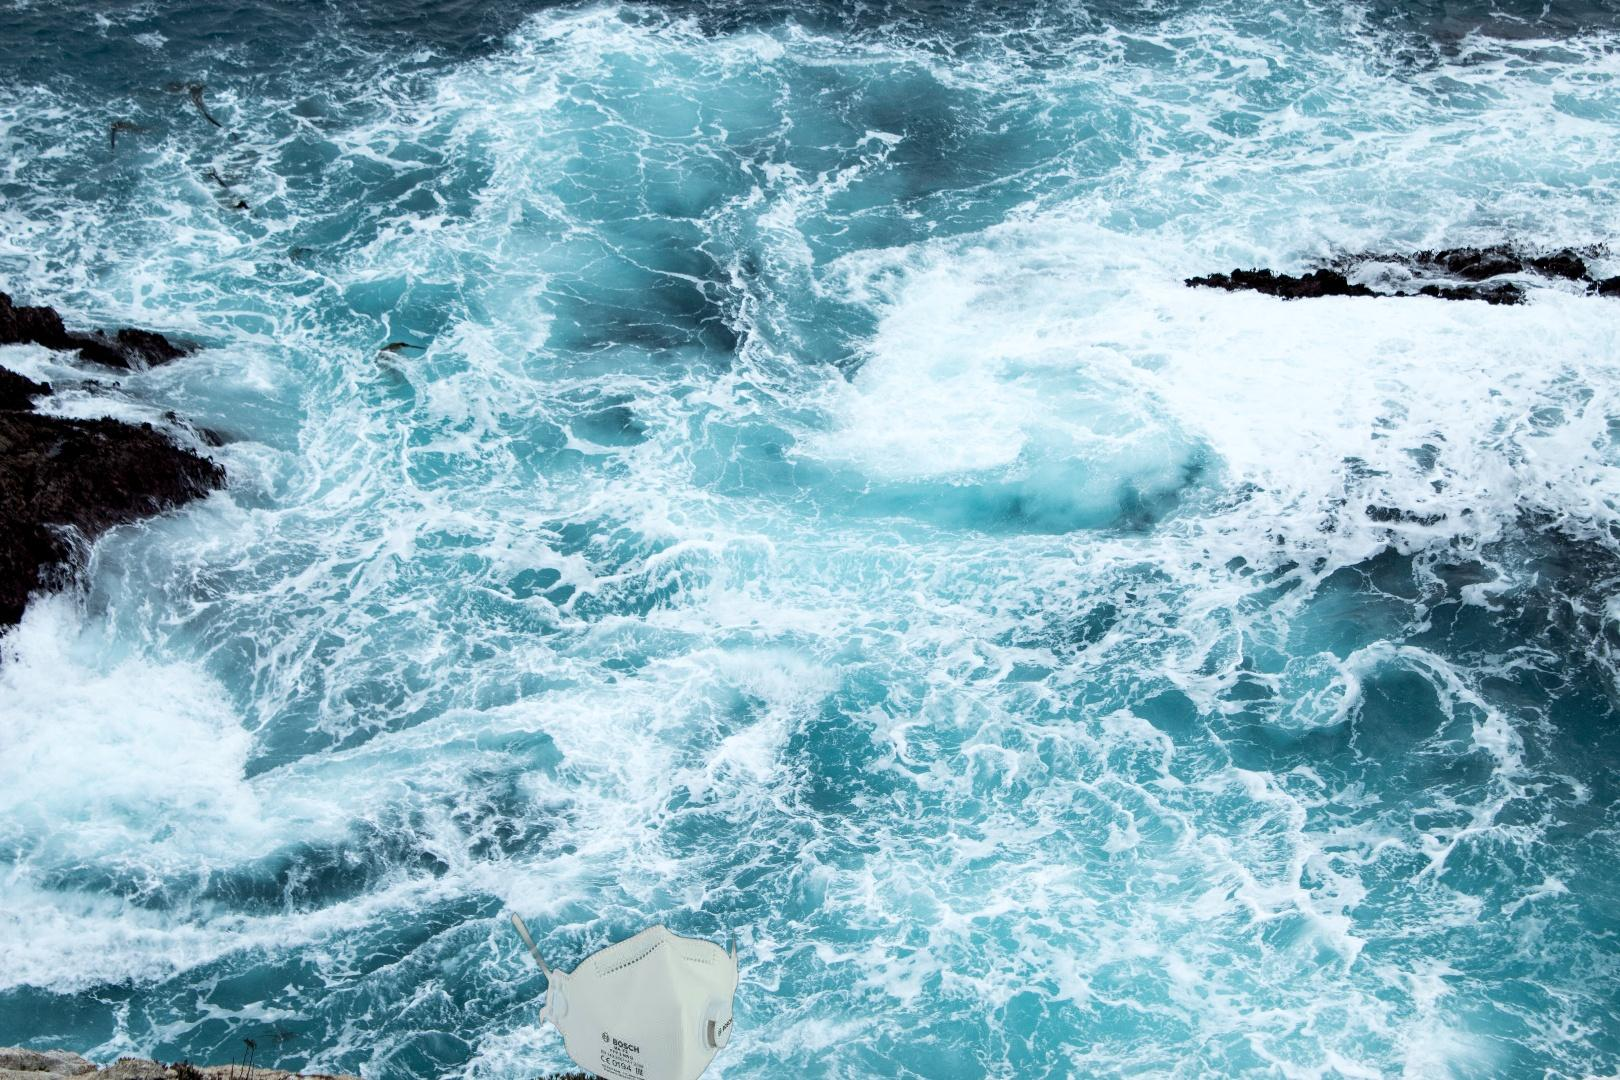trash: (505, 906, 741, 1080)
